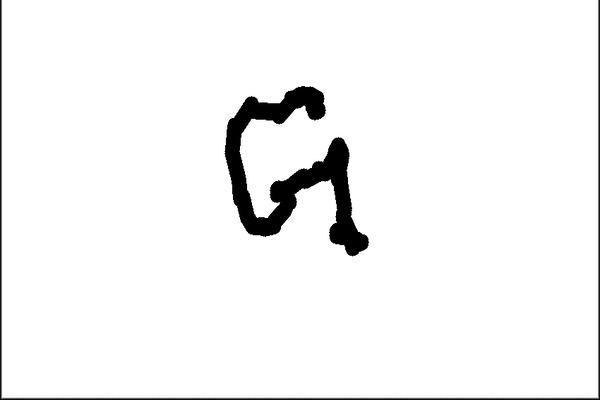G: (220, 80, 374, 259)
